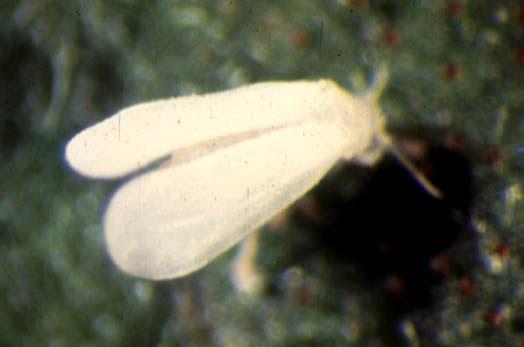whitefly: (65, 66, 443, 283)
